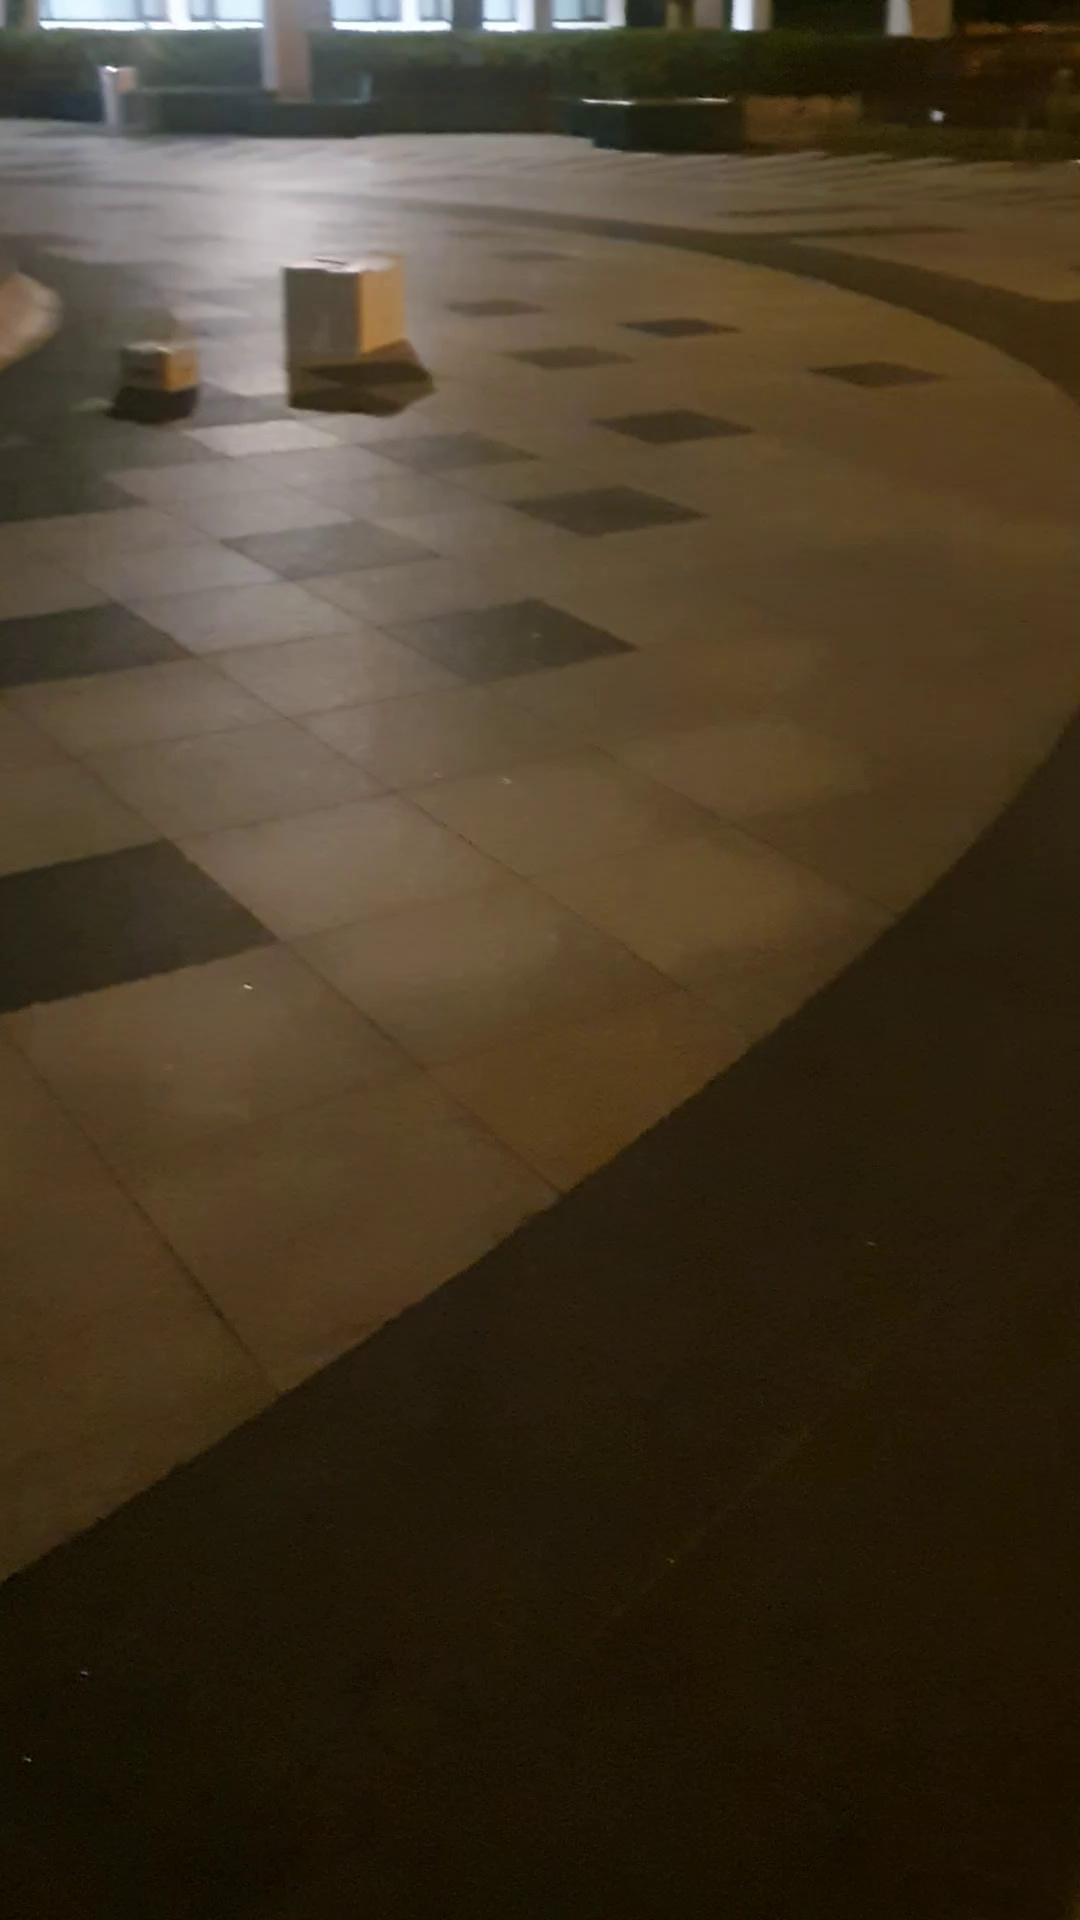Box: (258, 243, 427, 377), (113, 315, 195, 422)
